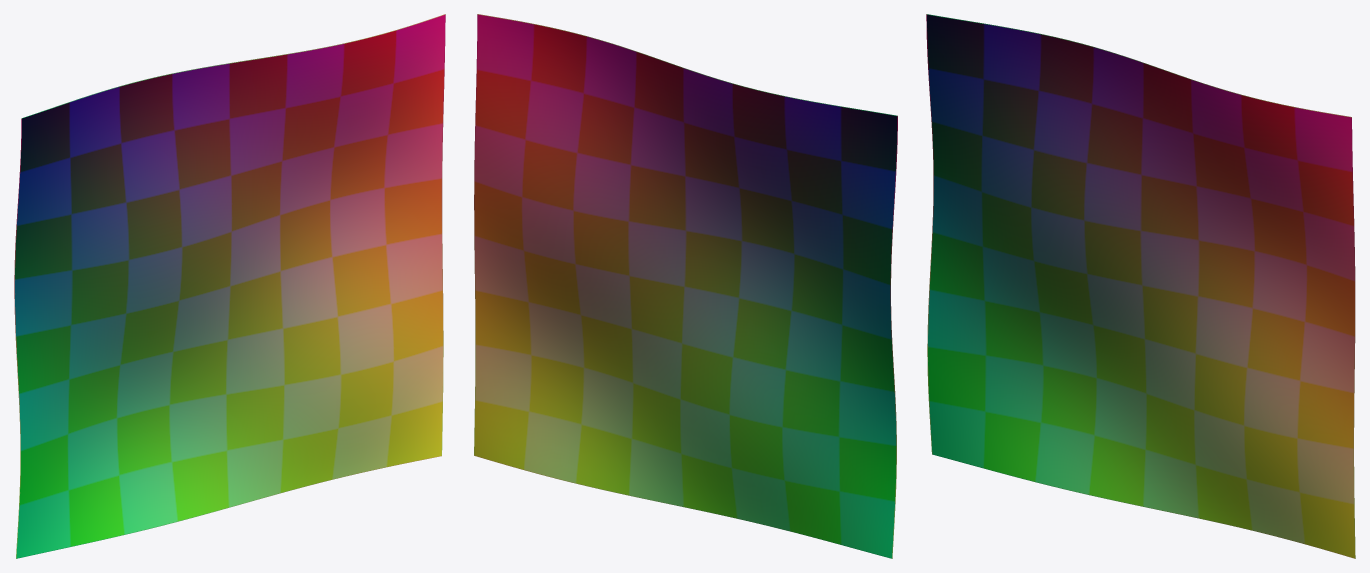
File: Tile_+007_+002.obj
3 renders of one model, left to right at view 1: azimuth 30°, elevation 25°; view 2: azimuth 150°, elevation 25°; view 3: azimuth 330°, elevation 25°, orthographic.
Bounding box in the file's own units: 100 × 100 × 6.32.
